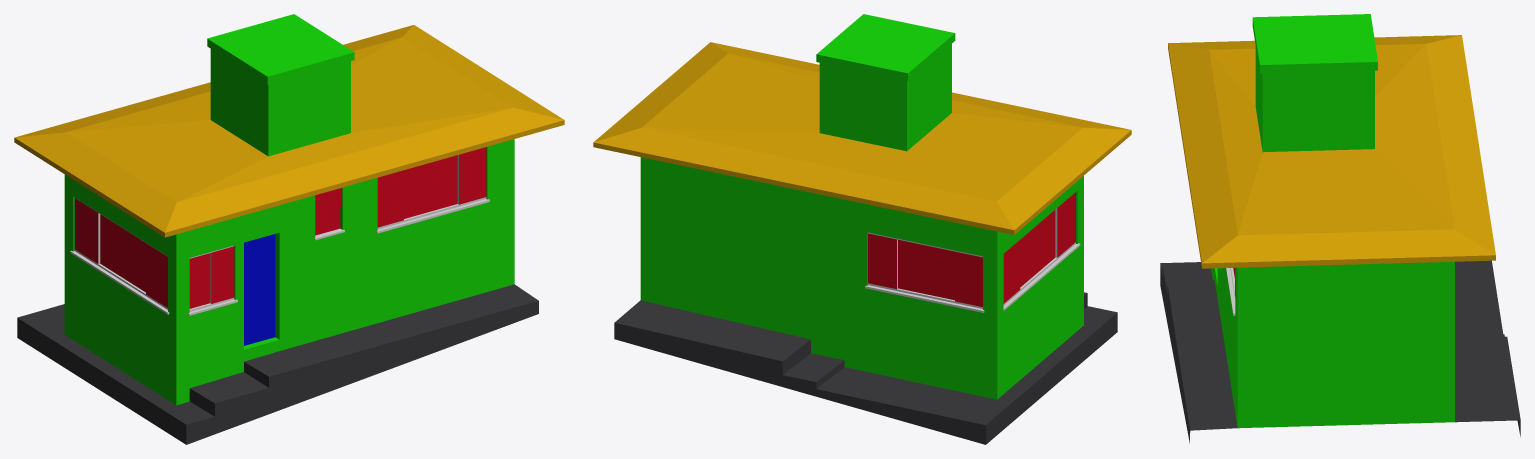
Rendered from Guarita-Seguranca.fbx.
3 views of the same model, side by side, from view 1: azimuth 30°, elevation 25°; view 2: azimuth 150°, elevation 25°; view 3: azimuth 270°, elevation 25° (orthographic). The views are drawn at different scales.
Parts seen in each view (by area): view 1: Ok - Seguranca; view 2: Ok - Seguranca; view 3: Ok - Seguranca.
Part boxes in pixels (x1,y1,x2,y2): Ok - Seguranca: (14,14,564,444); Ok - Seguranca: (593,14,1131,444); Ok - Seguranca: (1160,14,1520,443).
Size of the model in its own units: 662 by 450 by 441.
